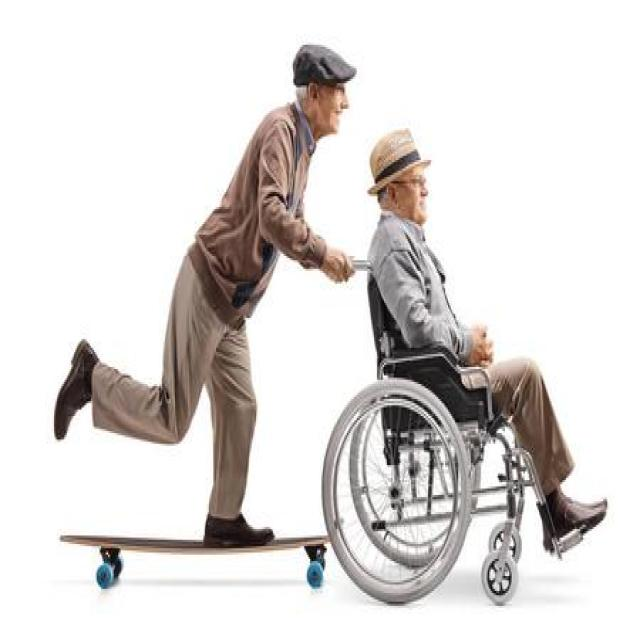wheelchairs: (307, 237, 608, 618)
